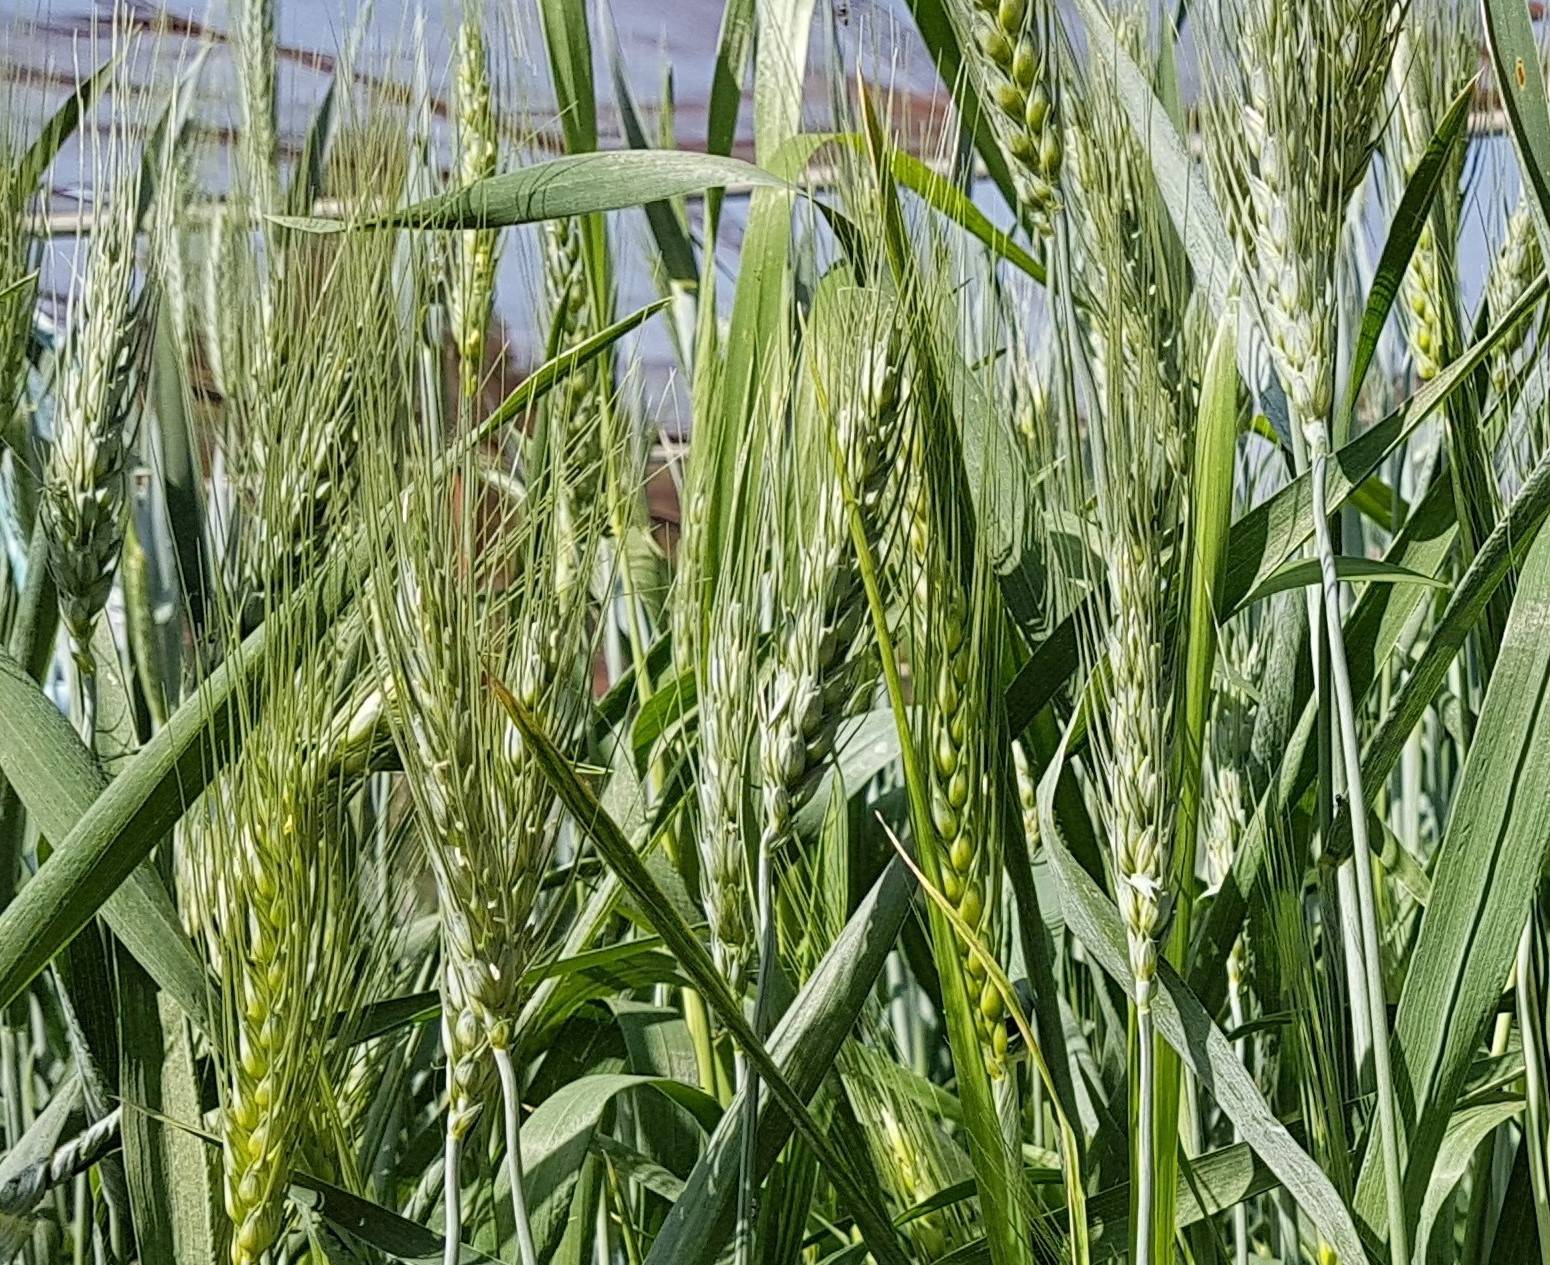Healthy Wheat: (203, 797, 375, 1241), (1204, 33, 1374, 422), (45, 230, 166, 640)
